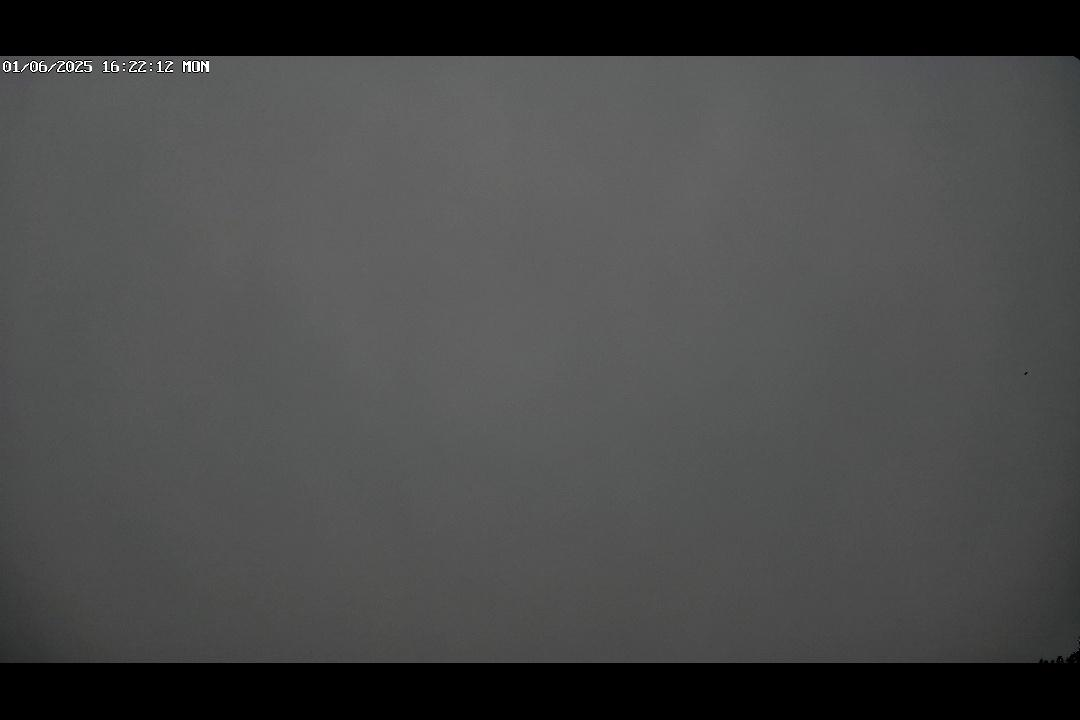WildLife: (1017, 368, 1032, 382)
